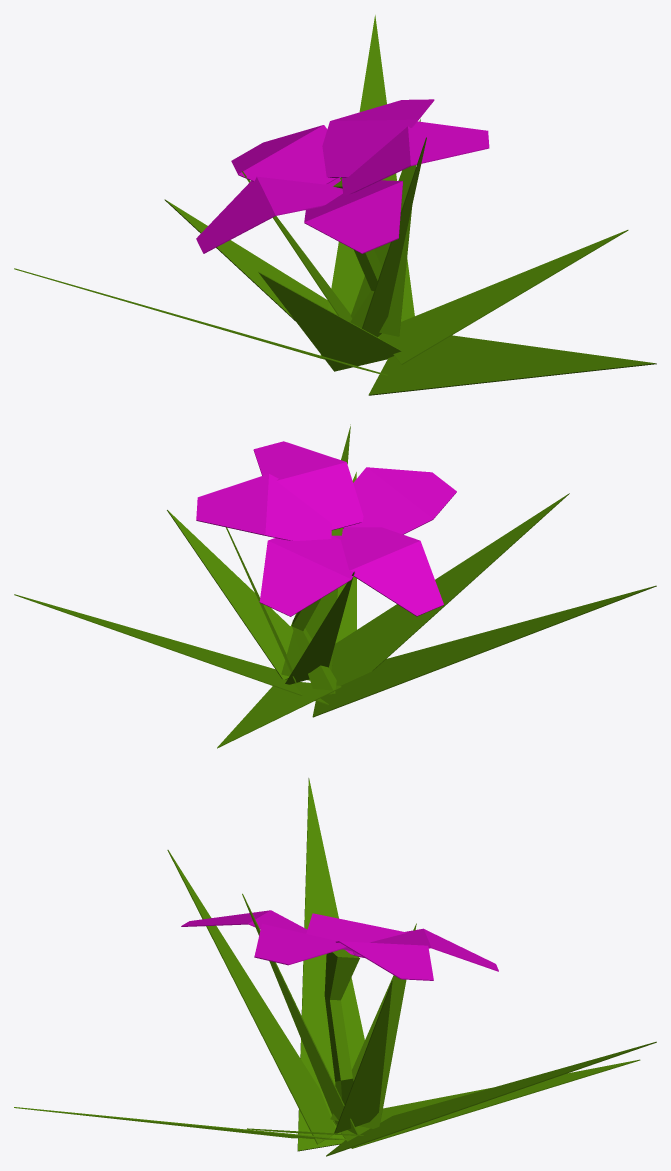
Rendered from 023 Flower_Plant_Pink.FBX.
3 views of the same model, one above another, from view 1: azimuth 30°, elevation 25°; view 2: azimuth 150°, elevation 25°; view 3: azimuth 270°, elevation 25° (orthographic). The views are drawn at different scales.
Parts seen in each view (by area): view 1: FlowerPlane_090; view 2: FlowerPlane_090; view 3: FlowerPlane_090.
Boxes of the visible parts, x1,y1,x2,y2 form: FlowerPlane_090: [14, 15, 656, 395]; FlowerPlane_090: [14, 424, 656, 748]; FlowerPlane_090: [14, 778, 656, 1156].
Size of the model in its own units: 62.8 by 27.73 by 62.2.
